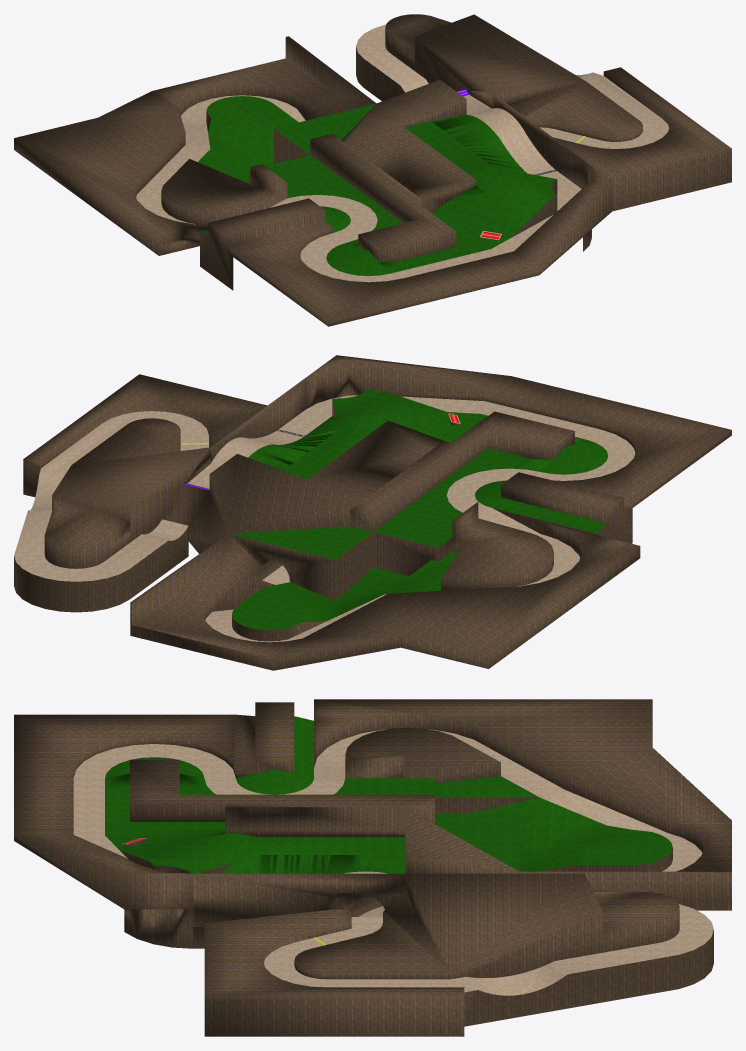
3 views of the same model, one above another, from view 1: azimuth 30°, elevation 25°; view 2: azimuth 150°, elevation 25°; view 3: azimuth 270°, elevation 25° (orthographic). The views are drawn at different scales.
Visible parts, largest first — view 1: nanasi_Main_000C___mat5, nanasi_Main_glass___mat4, nanasi_Main_road___mat3; view 2: nanasi_Main_000C___mat5, nanasi_Main_glass___mat4, nanasi_Main_road___mat3; view 3: nanasi_Main_000C___mat5, nanasi_Main_glass___mat4, nanasi_Main_road___mat3.
Part boxes in pixels (bbox=[...]): nanasi_Main_000C___mat5: bbox=[14, 14, 731, 326]; nanasi_Main_glass___mat4: bbox=[198, 96, 556, 275]; nanasi_Main_road___mat3: bbox=[136, 24, 669, 282]; nanasi_Main_000C___mat5: bbox=[14, 355, 731, 670]; nanasi_Main_glass___mat4: bbox=[229, 390, 607, 630]; nanasi_Main_road___mat3: bbox=[14, 395, 635, 642]; nanasi_Main_000C___mat5: bbox=[14, 699, 731, 1036]; nanasi_Main_glass___mat4: bbox=[105, 716, 672, 873]; nanasi_Main_road___mat3: bbox=[73, 729, 713, 995].
Size of the model in its own units: 81430 by 12375 by 82467.
Materials: 9 (9 with a texture image).
